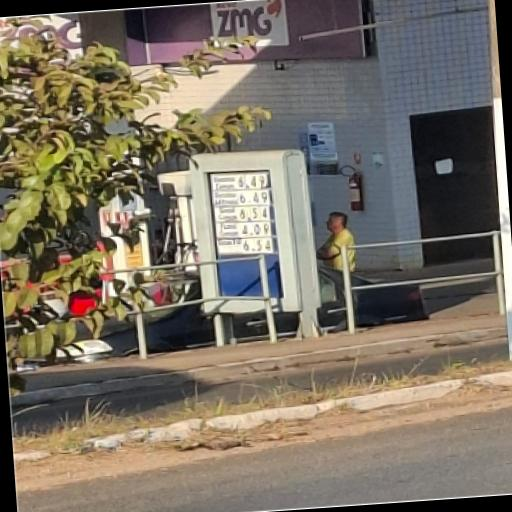ETANOL: (215, 185, 237, 198)
GASOLINA AD: (219, 213, 239, 225)
GASOLINA C: (217, 199, 239, 213)
S10: (222, 240, 244, 255)
S500: (220, 228, 240, 240)
placa: (205, 167, 292, 310)
preco: (239, 196, 268, 210), (240, 181, 267, 196), (244, 239, 272, 253), (243, 225, 269, 239), (241, 211, 268, 223)
